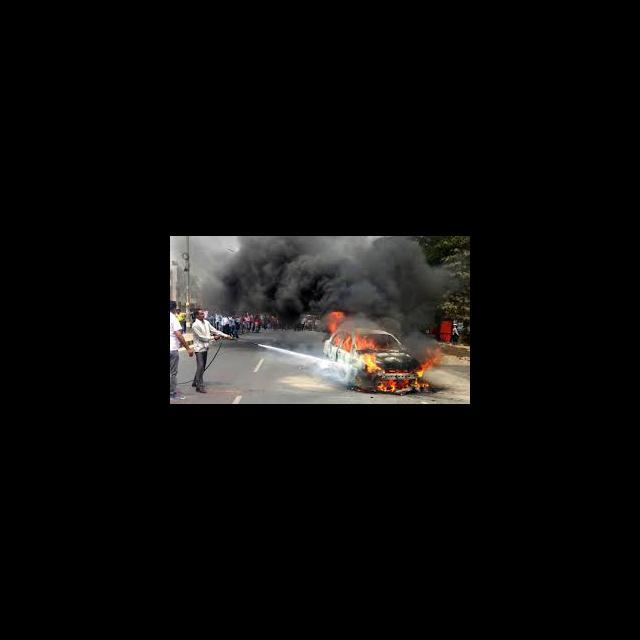Fire: (377, 379, 429, 394), (417, 347, 442, 377), (353, 330, 381, 351), (362, 352, 380, 375), (325, 310, 341, 333), (341, 336, 353, 352), (332, 334, 340, 346), (386, 369, 408, 373)
Smoke: (217, 236, 464, 311), (192, 236, 217, 309), (392, 310, 432, 346), (344, 310, 390, 328)
